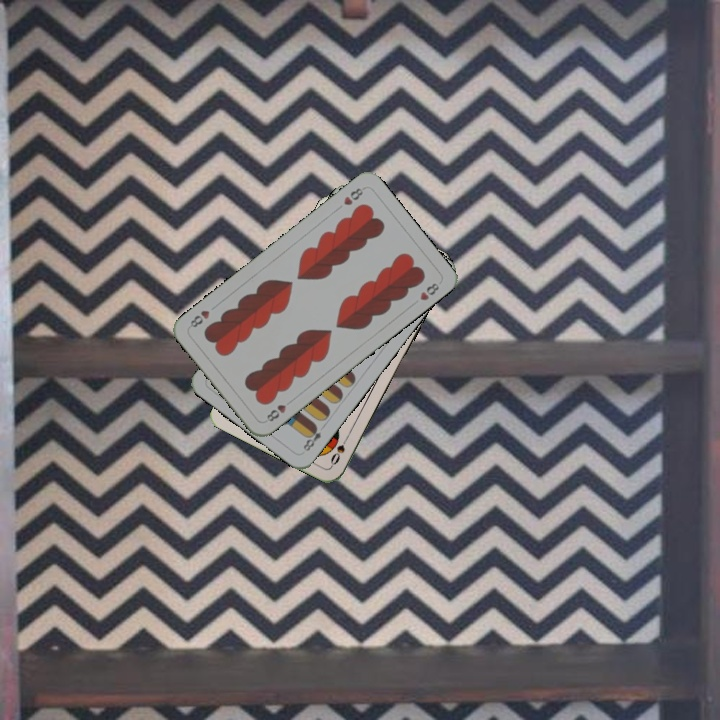E8: (299, 421, 328, 454)
H8: (263, 395, 295, 424), (339, 183, 367, 208)
SO: (326, 431, 352, 469)
